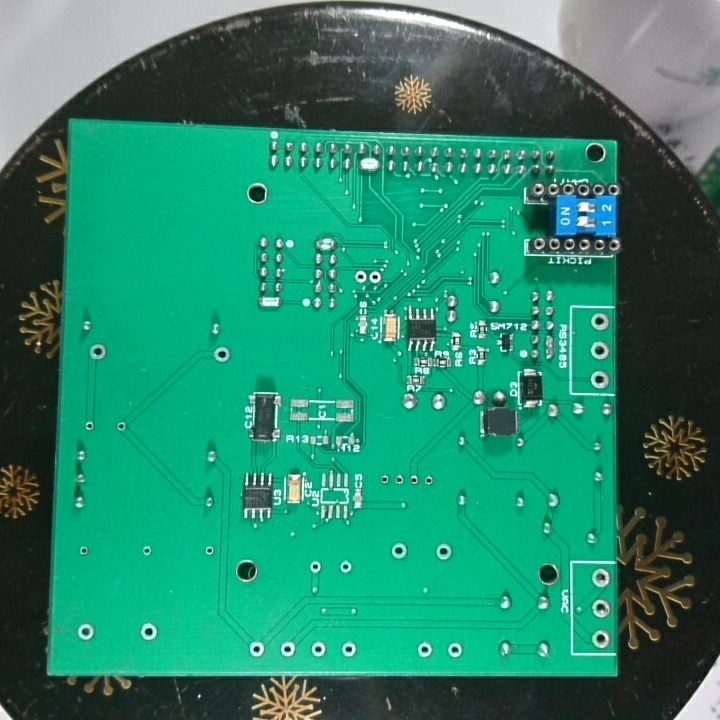F: (589, 596, 612, 620), (588, 367, 611, 390), (589, 628, 612, 651), (589, 566, 611, 590), (87, 341, 109, 365), (137, 620, 159, 642), (74, 620, 96, 642), (434, 542, 456, 564), (589, 311, 610, 334), (390, 541, 411, 563), (589, 340, 609, 363), (308, 638, 328, 660), (445, 640, 465, 661), (277, 638, 297, 659), (247, 638, 267, 659), (211, 343, 231, 364), (414, 639, 434, 659), (339, 640, 358, 658), (305, 559, 325, 575), (139, 542, 154, 561), (114, 418, 129, 437), (367, 269, 383, 286), (337, 558, 354, 574), (420, 472, 435, 490), (352, 269, 366, 288), (202, 543, 216, 561), (82, 418, 97, 434), (76, 543, 90, 559), (378, 473, 392, 489), (393, 472, 405, 489), (408, 472, 419, 489)
P: (254, 293, 284, 311), (312, 233, 340, 252), (541, 331, 556, 363), (357, 156, 382, 175)
